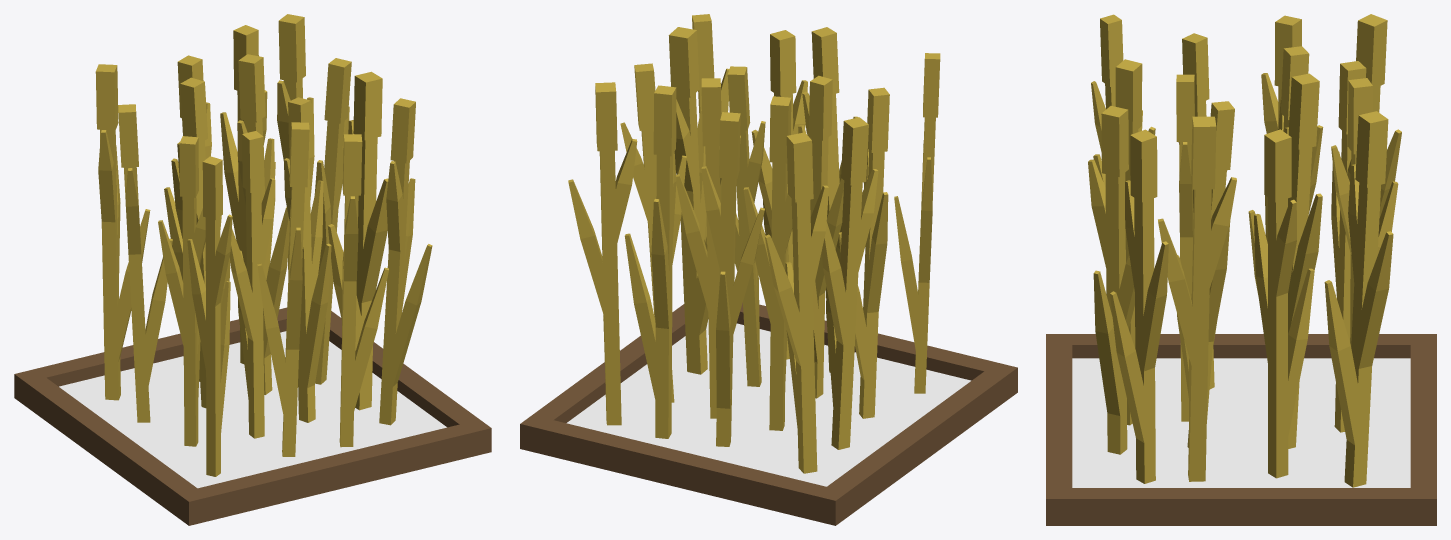
3 views of the same model, side by side, from view 1: azimuth 30°, elevation 25°; view 2: azimuth 150°, elevation 25°; view 3: azimuth 270°, elevation 25° (orthographic). The views are drawn at different scales.
Parts seen in each view (by area): view 1: wheat5; view 2: wheat5; view 3: wheat5.
Boxes of the visible parts, x1,y1,x2,y2 form: wheat5: (14,14,491,525); wheat5: (520,14,1017,525); wheat5: (1046,14,1436,525).
Size of the model in its own units: 440 by 479 by 440.
